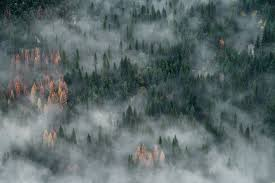fire: (7, 47, 75, 145), (126, 142, 182, 168)
smoke: (192, 123, 272, 183), (50, 18, 192, 47), (8, 158, 94, 183)
